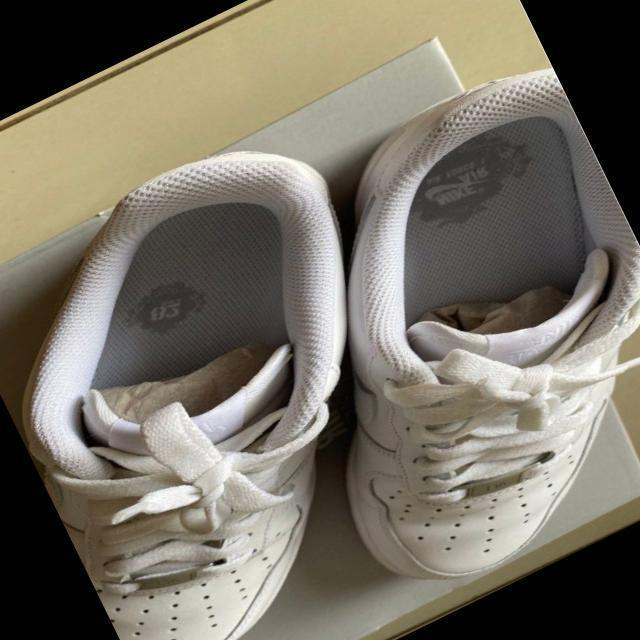nike original air force: (0, 106, 496, 640), (200, 49, 640, 620)
